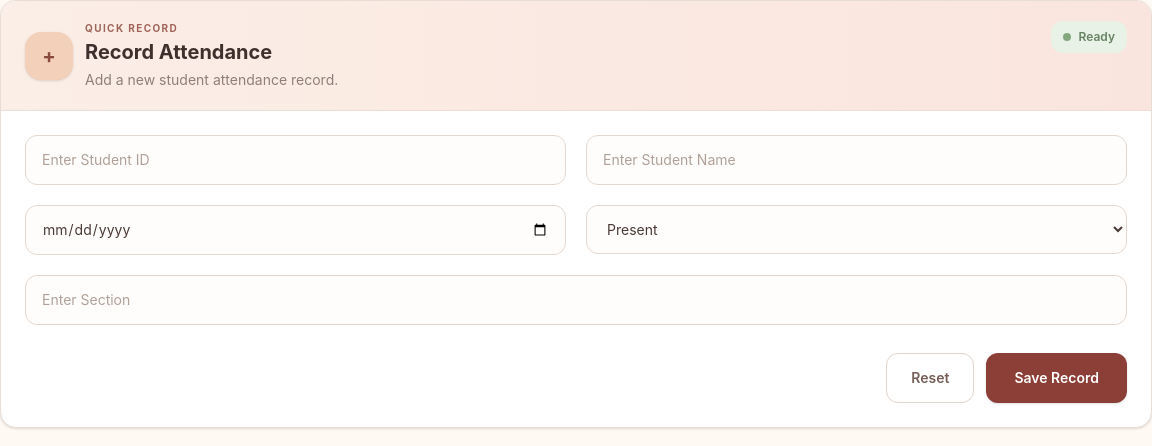
Test: AttendanceForm › resets the form when Reset is clicked
The image size is (1152, 446).
Step 1. Type "2026-001" into the field named "Student ID" → (296, 160), box left=25, top=135, right=566, bottom=185
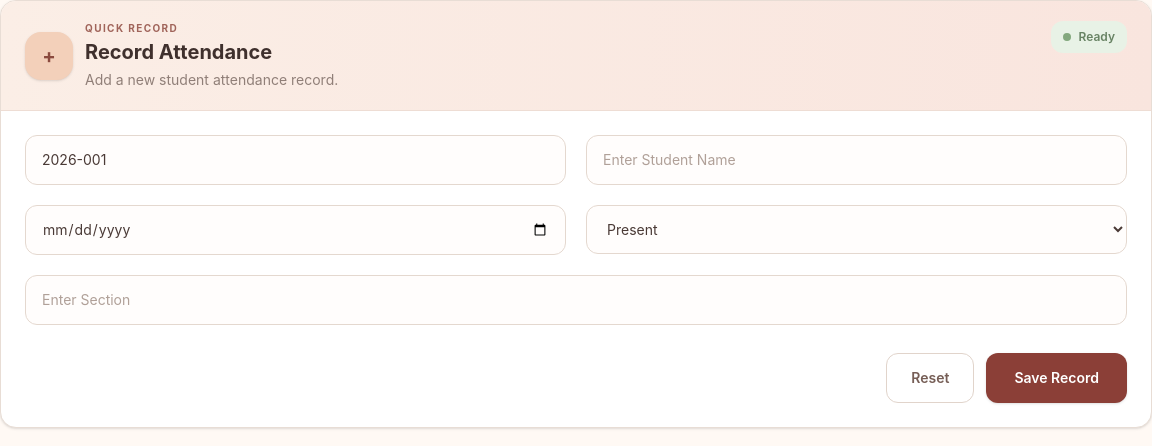
Step 2. Type "Juan Dela Cruz" into the field named "Student Name" → (856, 160), box left=586, top=135, right=1127, bottom=185
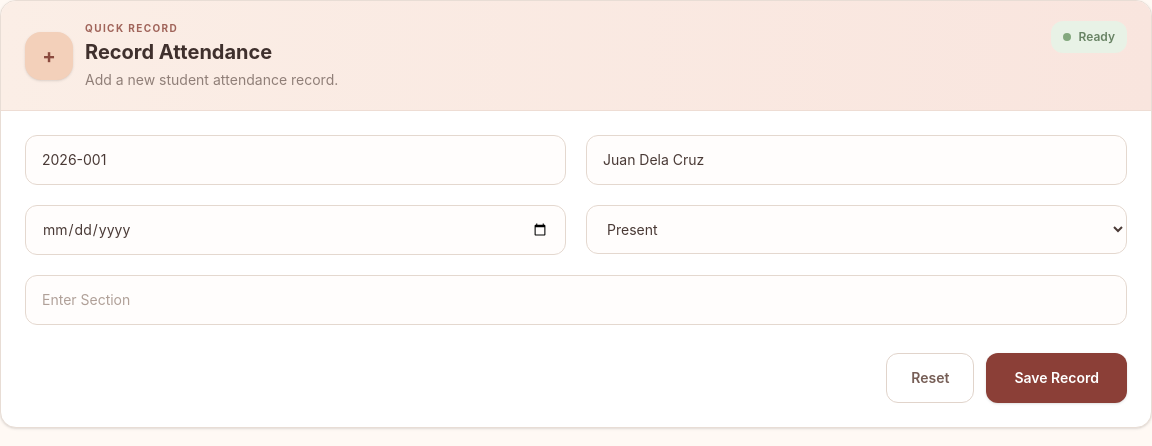
Step 3. Type "BSIT-3A" into the field named "Section" → (576, 300), box left=25, top=275, right=1127, bottom=325
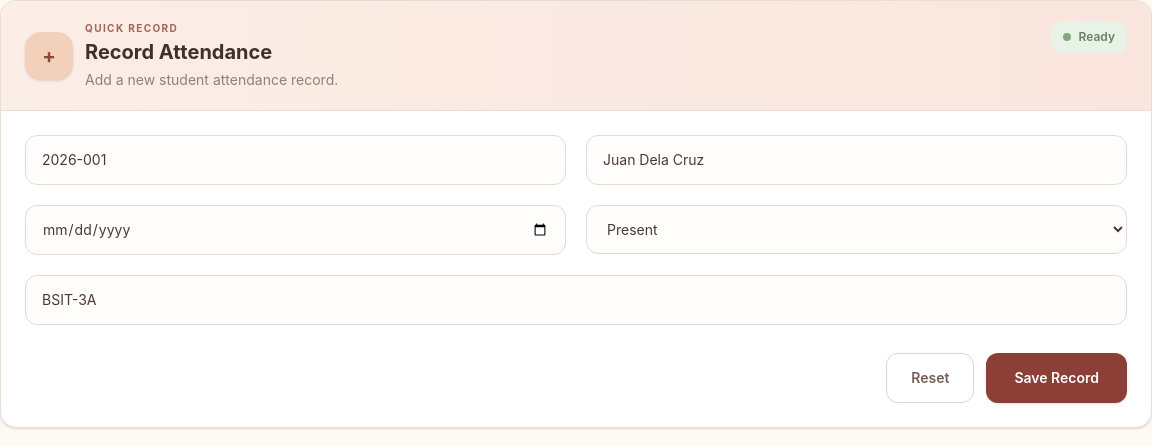
Step 4. Click the button "Reset" → (930, 378), box left=886, top=353, right=974, bottom=403
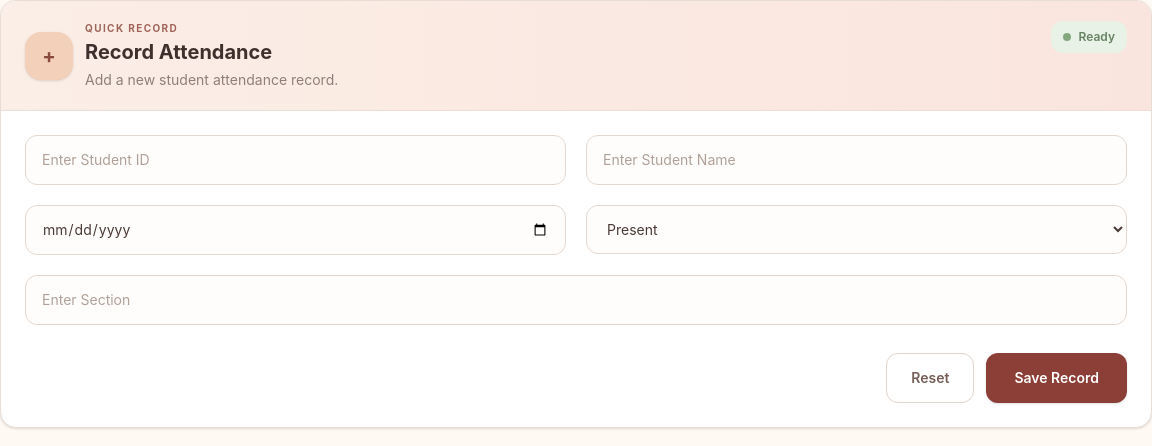
Check: the field named "Student ID" is empty, box left=25, top=135, right=566, bottom=185
Check: the field named "Student Name" is empty, box left=586, top=135, right=1127, bottom=185
Check: the field named "Section" is empty, box left=25, top=275, right=1127, bottom=325
